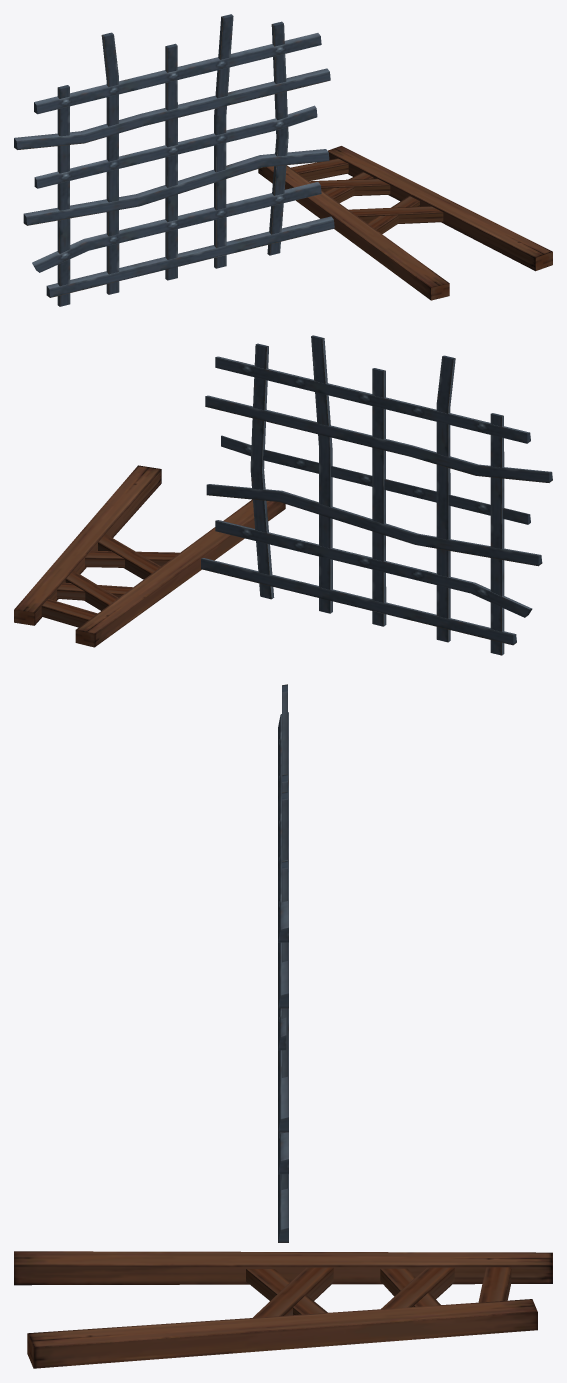
Rendered from 2_YiZhan_TieJiaMuJiai_01.FBX.
The picture shows the model from 3 angles, top to bottom: view 1: azimuth 30°, elevation 25°; view 2: azimuth 150°, elevation 25°; view 3: azimuth 270°, elevation 25°; orthographic projection. The views are drawn at different scales.
Visible parts, largest first — view 1: 2_YiZhan_TieJia_01, 2_YiZhan_MuJia_01; view 2: 2_YiZhan_TieJia_01, 2_YiZhan_MuJia_01; view 3: 2_YiZhan_MuJia_01, 2_YiZhan_TieJia_01.
Part boxes in pixels (x1,y1,x2,y2): 2_YiZhan_TieJia_01: (14,14,334,306); 2_YiZhan_MuJia_01: (258,146,552,300); 2_YiZhan_TieJia_01: (201,335,552,655); 2_YiZhan_MuJia_01: (14,465,285,647); 2_YiZhan_MuJia_01: (14,1251,552,1368); 2_YiZhan_TieJia_01: (278,684,288,1242).
Bounding box in the file's own units: 1174 × 639 × 772.
